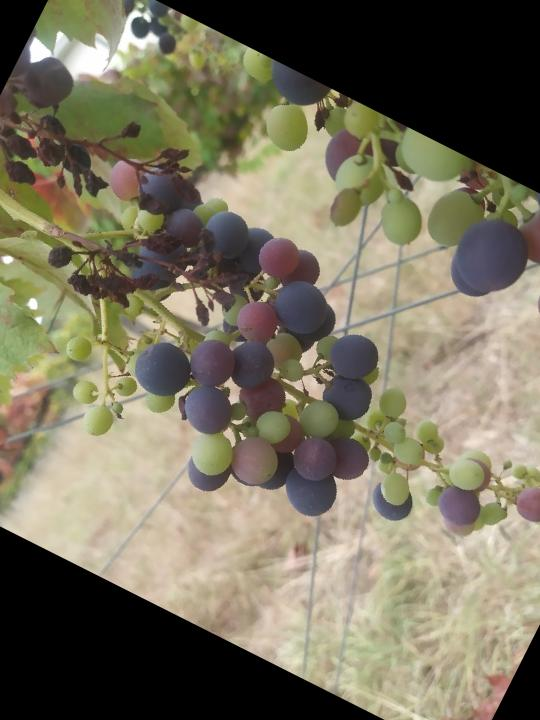grape: (0, 140, 540, 640), (0, 41, 234, 262)
